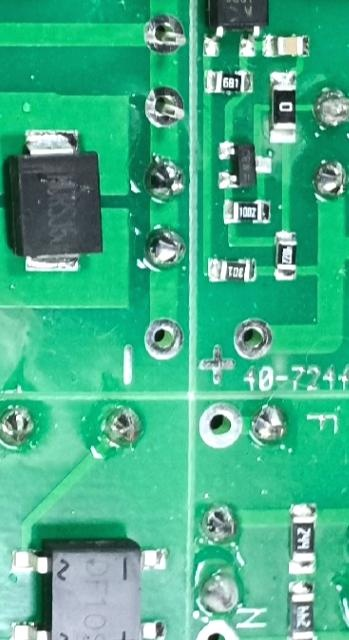chip-capacitor: (261, 34, 310, 58)
chip-resistor: (285, 501, 318, 577), (266, 70, 298, 146), (283, 580, 316, 640), (201, 68, 253, 96), (220, 200, 273, 227), (271, 228, 297, 282), (205, 257, 258, 283)
diode: (3, 128, 103, 275)
ic: (5, 536, 172, 640)
transistor: (215, 139, 272, 189)
